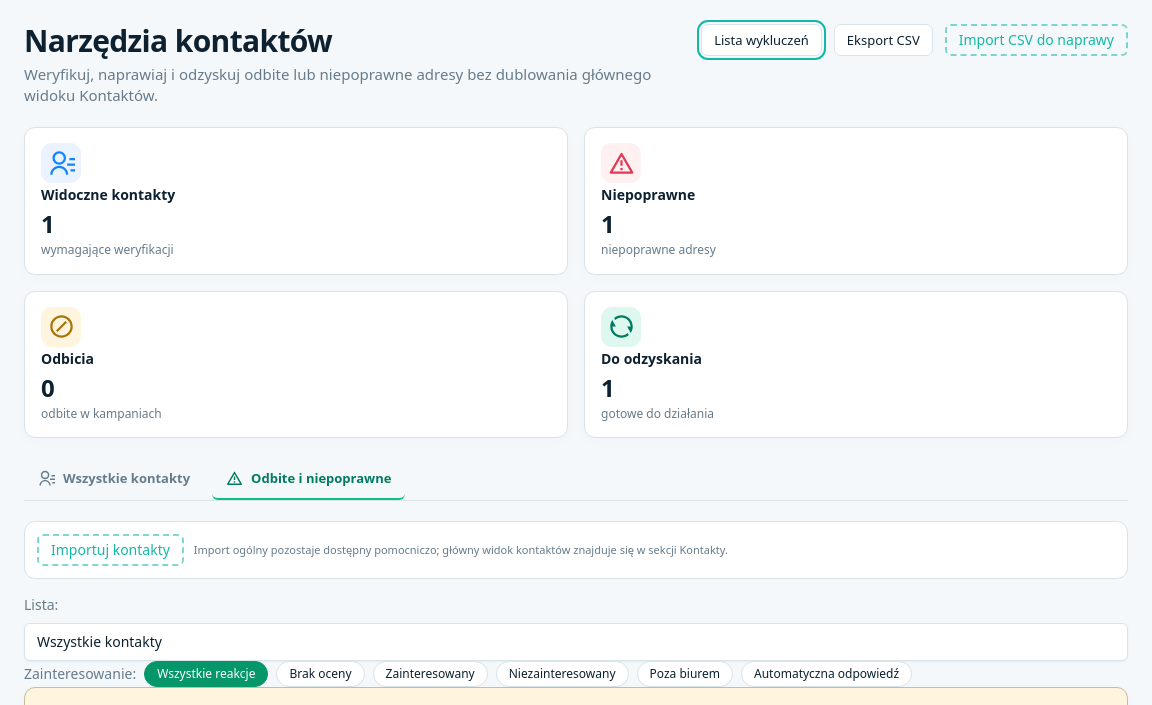
Test case: uses the shared dialog for suppression; Escape restores focus and scrolling
The width and height of the screenshot is (1152, 705).
Click the button "Lista wykluczeń". click: point(762, 40)
box: x1=701 y1=24 x2=822 y2=56
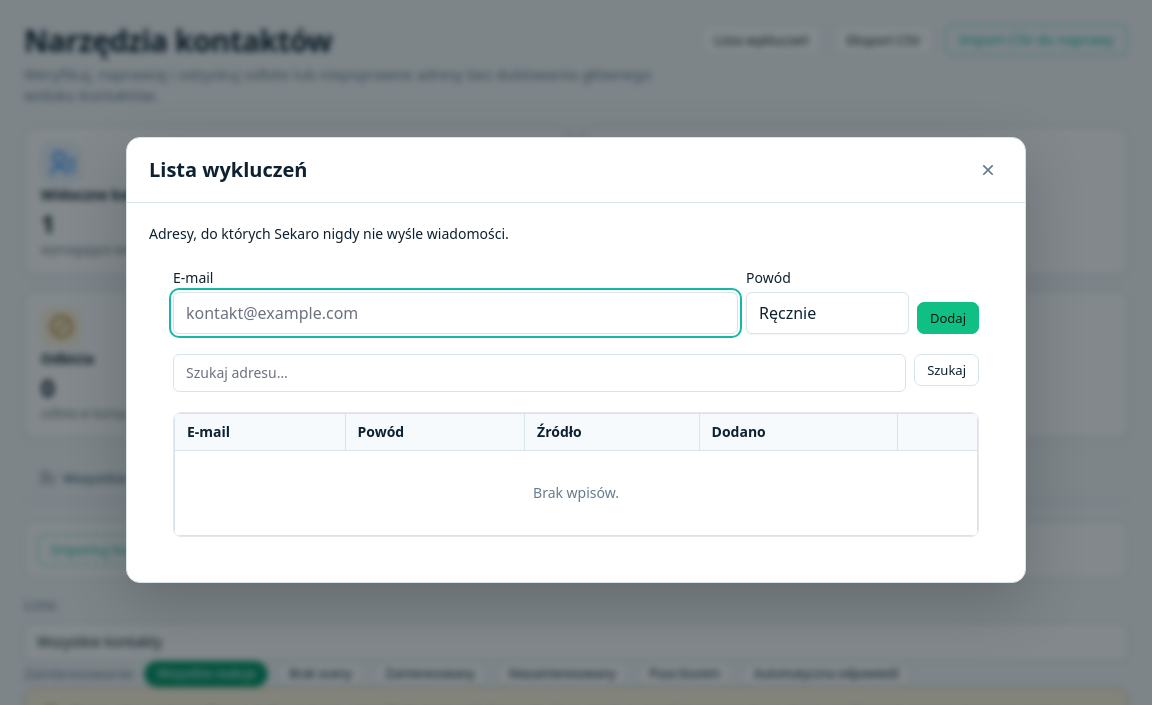
Press Escape
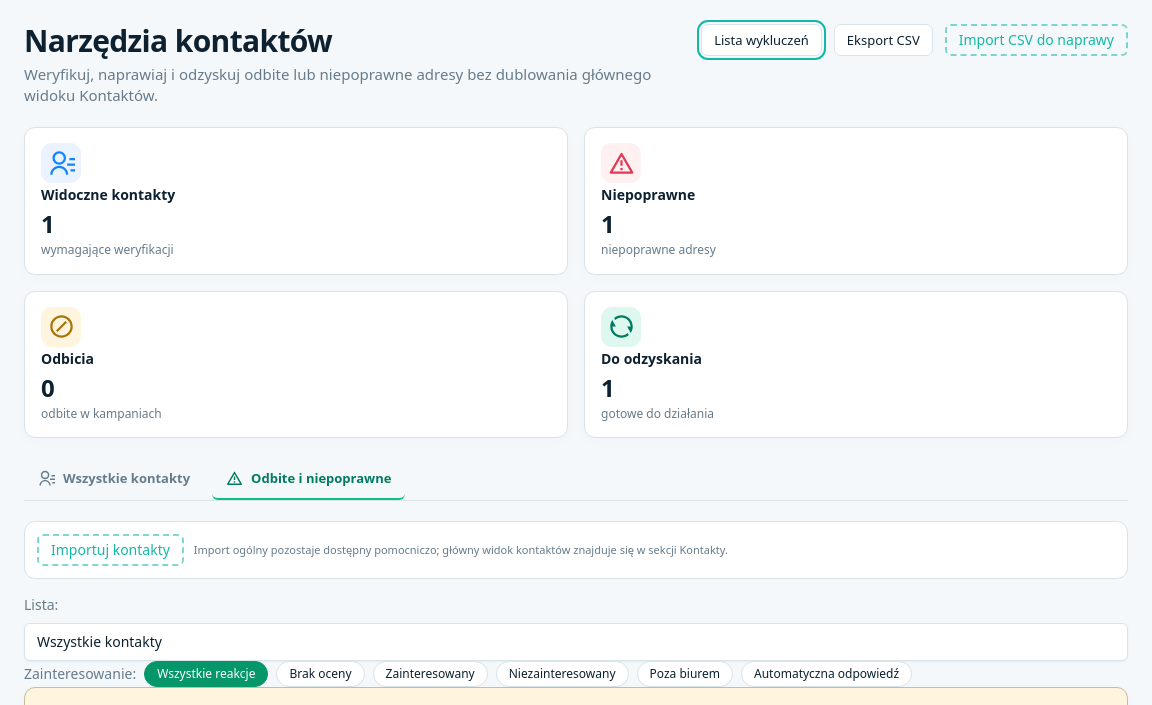
expect the dialog is gone: met
